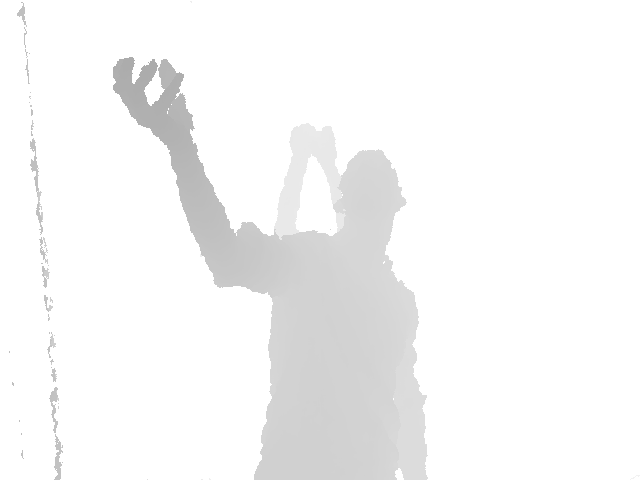hand: (111, 56, 195, 137), (315, 121, 338, 164), (288, 122, 314, 160)
head: (332, 148, 406, 248)
person: (111, 56, 429, 479), (270, 122, 348, 237)
